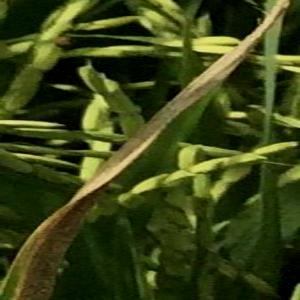2 BacterialBlight: (109, 50, 223, 181)
